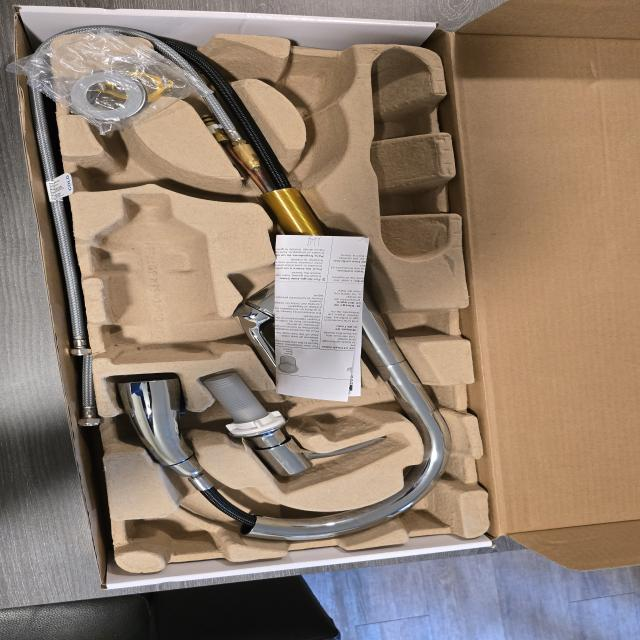1o: (113, 32, 455, 541)
2: (204, 372, 388, 478)
3m: (91, 193, 218, 364)
4m: (370, 48, 450, 260)
5m: (282, 60, 347, 111)
6: (2, 29, 217, 136)
7m: (70, 133, 197, 195)
8: (274, 234, 372, 402)
